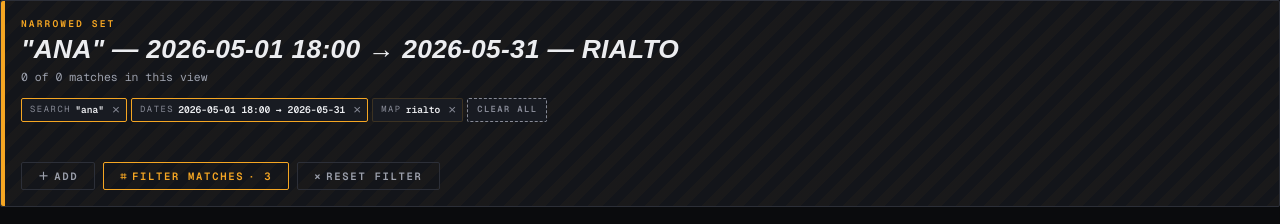
MatchesDossierHead — Reset filter (date scope only) › clears ONLY the date clause — every other pick survives
Click the button "⨯ Reset filter". click: (368, 176)
box: [297,162,440,190]
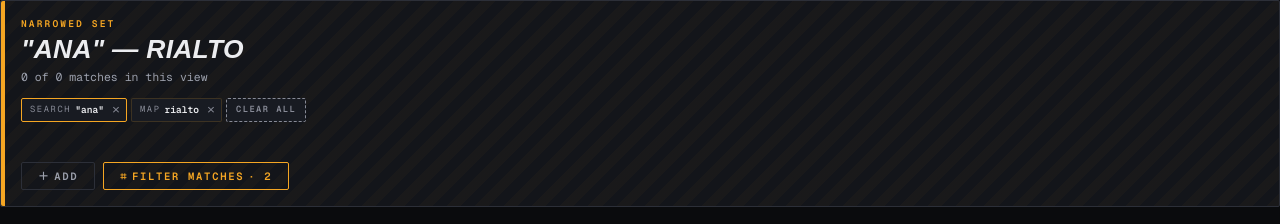
Check: the button "Reset filter" is gone
